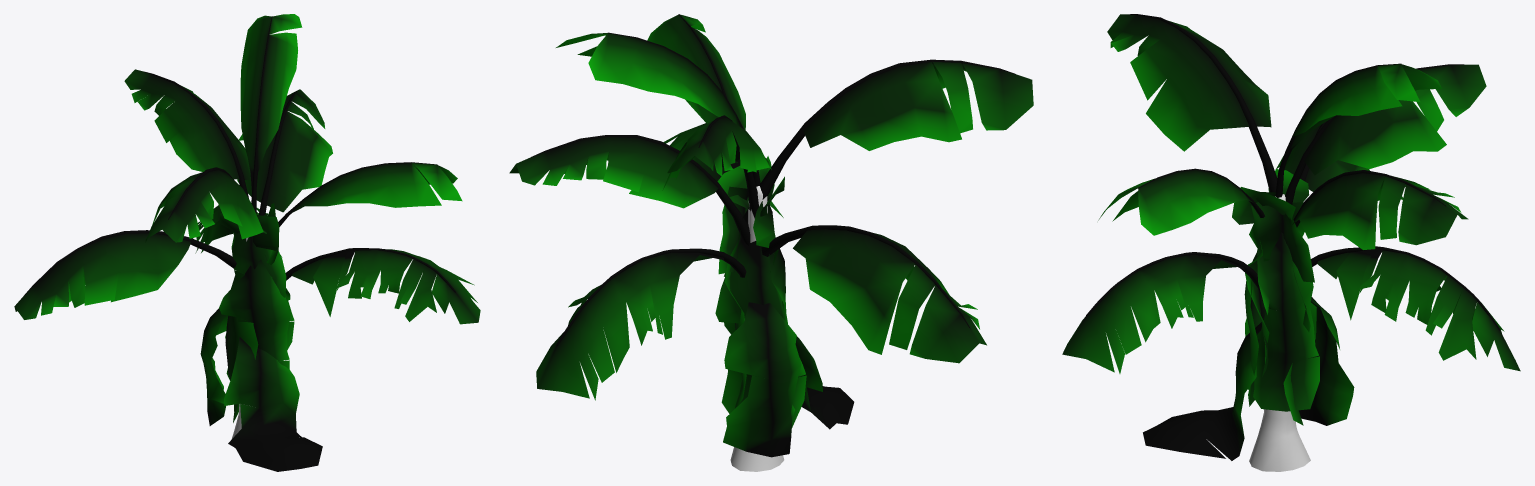
The model's file is BananaTree01_afsTREE_xlprl15_xafs.fbx.
3 views of the same model, side by side, from view 1: azimuth 30°, elevation 25°; view 2: azimuth 150°, elevation 25°; view 3: azimuth 270°, elevation 25° (orthographic). The views are drawn at different scales.
Parts seen in each view (by area): view 1: BananaLeaf_xw05_xt08_xlp04_xp05, DyingBranch_xw05_xt08_xlp05_xp05, DeadBananaLeaf_xw00_xt00_xlp00.003, BananaLeaf_xw10_xt08_xlp06_xp03, BananaLeaf_xw08_xt10_xlp05_xp06, BananaLeaf_xw08_xt08_xlp04, BananaLeaf_xw08_xt12_xlp05_xp09, BananaLeaf_xw07_xt10_xlp05_xp04, DeadBananaLeaf_xw00_xt00_xlp00.001, DeadBananaLeaf_xw00_xt00_xlp00.004, DeadBananaLeaf_xw02_xt02_xlp02_xp10, DeadBananaLeaf_xw00_xt00_xlp00.002 (+2 smaller); view 2: BananaLeaf_xw05_xt08_xlp04_xp05, BananaLeaf_xw07_xt10_xlp05_xp04, DyingBranch_xw05_xt08_xlp03_xp01, BananaLeaf_xw08_xt08_xlp04, DeadBananaLeaf_xw02_xt02_xlp02_xp10, BananaLeaf_xw10_xt08_xlp06_xp03, DeadBananaLeaf_xw00_xt00_xlp00.002, BananaLeaf_xw08_xt10_xlp05_xp06, BananaLeaf_xw08_xt12_xlp05_xp09, DeadBananaLeaf_xw00_xt00_xlp00.003, trunk_bananaTree01_xw03_xt02_xlp00, DeadBananaLeaf_xw00_xt00_xlp00.005 (+4 smaller); view 3: BananaLeaf_xw07_xt10_xlp05_xp04, DyingBranch_xw05_xt08_xlp03_xp01, DyingBranch_xw05_xt08_xlp05_xp05, BananaLeaf_xw08_xt10_xlp05_xp06, BananaLeaf_xw08_xt08_xlp04, DeadBananaLeaf_xw00_xt00_xlp00, BananaLeaf_xw10_xt08_xlp06_xp03, BananaLeaf_xw08_xt12_xlp05_xp09, DeadBananaLeaf_xw00_xt00_xlp00.003, DeadBananaLeaf_xw02_xt02_xlp02_xp10, trunk_bananaTree01_xw03_xt02_xlp00, DeadBananaLeaf_xw00_xt00_xlp00.005 (+7 smaller).
Part boxes in pixels (x1,y1,x2,y2): BananaLeaf_xw05_xt08_xlp04_xp05: (14, 230, 236, 319); DyingBranch_xw05_xt08_xlp05_xp05: (285, 248, 480, 324); DeadBananaLeaf_xw00_xt00_xlp00.003: (224, 337, 322, 471); BananaLeaf_xw10_xt08_xlp06_xp03: (240, 14, 302, 214); BananaLeaf_xw08_xt10_xlp05_xp06: (124, 69, 250, 198); BananaLeaf_xw08_xt08_xlp04: (237, 89, 332, 215); BananaLeaf_xw08_xt12_xlp05_xp09: (278, 162, 462, 226); BananaLeaf_xw07_xt10_xlp05_xp04: (145, 167, 263, 242); DeadBananaLeaf_xw00_xt00_xlp00.001: (219, 260, 289, 380); DeadBananaLeaf_xw00_xt00_xlp00.004: (225, 231, 294, 349); DeadBananaLeaf_xw02_xt02_xlp02_xp10: (200, 308, 228, 425); DeadBananaLeaf_xw00_xt00_xlp00.002: (225, 315, 258, 422); BananaLeaf_xw05_xt08_xlp04_xp05: (761, 225, 986, 363); BananaLeaf_xw07_xt10_xlp05_xp04: (760, 59, 1033, 199); DyingBranch_xw05_xt08_xlp03_xp01: (536, 248, 746, 400); BananaLeaf_xw08_xt08_xlp04: (509, 135, 750, 245); DeadBananaLeaf_xw02_xt02_xlp02_xp10: (723, 302, 801, 457); BananaLeaf_xw10_xt08_xlp06_xp03: (556, 32, 760, 186); DeadBananaLeaf_xw00_xt00_xlp00.002: (715, 216, 806, 428); BananaLeaf_xw08_xt10_xlp05_xp06: (662, 115, 771, 218); BananaLeaf_xw08_xt12_xlp05_xp09: (647, 14, 745, 165); DeadBananaLeaf_xw00_xt00_xlp00.003: (795, 336, 854, 429); trunk_bananaTree01_xw03_xt02_xlp00: (730, 186, 784, 471); DeadBananaLeaf_xw00_xt00_xlp00.005: (718, 186, 748, 274); BananaLeaf_xw07_xt10_xlp05_xp04: (1107, 14, 1277, 192); DyingBranch_xw05_xt08_xlp03_xp01: (1311, 246, 1520, 371); DyingBranch_xw05_xt08_xlp05_xp05: (1062, 252, 1270, 373); BananaLeaf_xw08_xt10_xlp05_xp06: (1285, 64, 1486, 204); BananaLeaf_xw08_xt08_xlp04: (1286, 170, 1468, 249); DeadBananaLeaf_xw00_xt00_xlp00: (1248, 232, 1319, 411); BananaLeaf_xw10_xt08_xlp06_xp03: (1275, 63, 1441, 197); BananaLeaf_xw08_xt12_xlp05_xp09: (1098, 168, 1264, 235); DeadBananaLeaf_xw00_xt00_xlp00.003: (1143, 322, 1261, 460); DeadBananaLeaf_xw02_xt02_xlp02_xp10: (1299, 297, 1354, 425); trunk_bananaTree01_xw03_xt02_xlp00: (1249, 194, 1310, 471); DeadBananaLeaf_xw00_xt00_xlp00.005: (1249, 202, 1314, 282).
Bounding box in the file's own units: 5.32 × 4.86 × 5.13.
